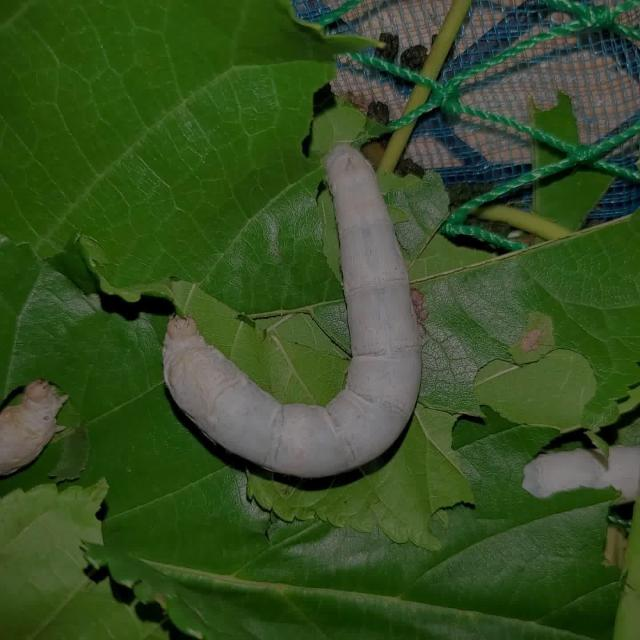Healthy: (152, 129, 431, 485)
